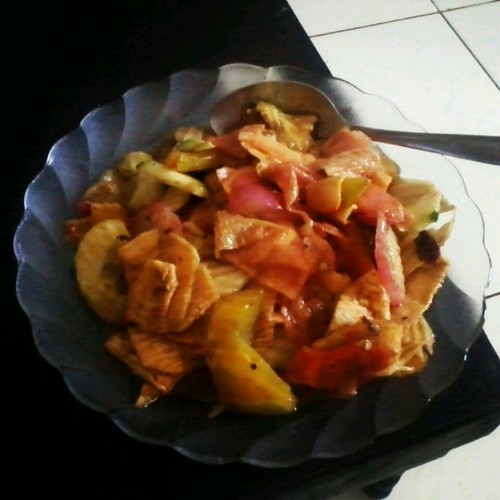rujak buleleng: (113, 140, 415, 379)
